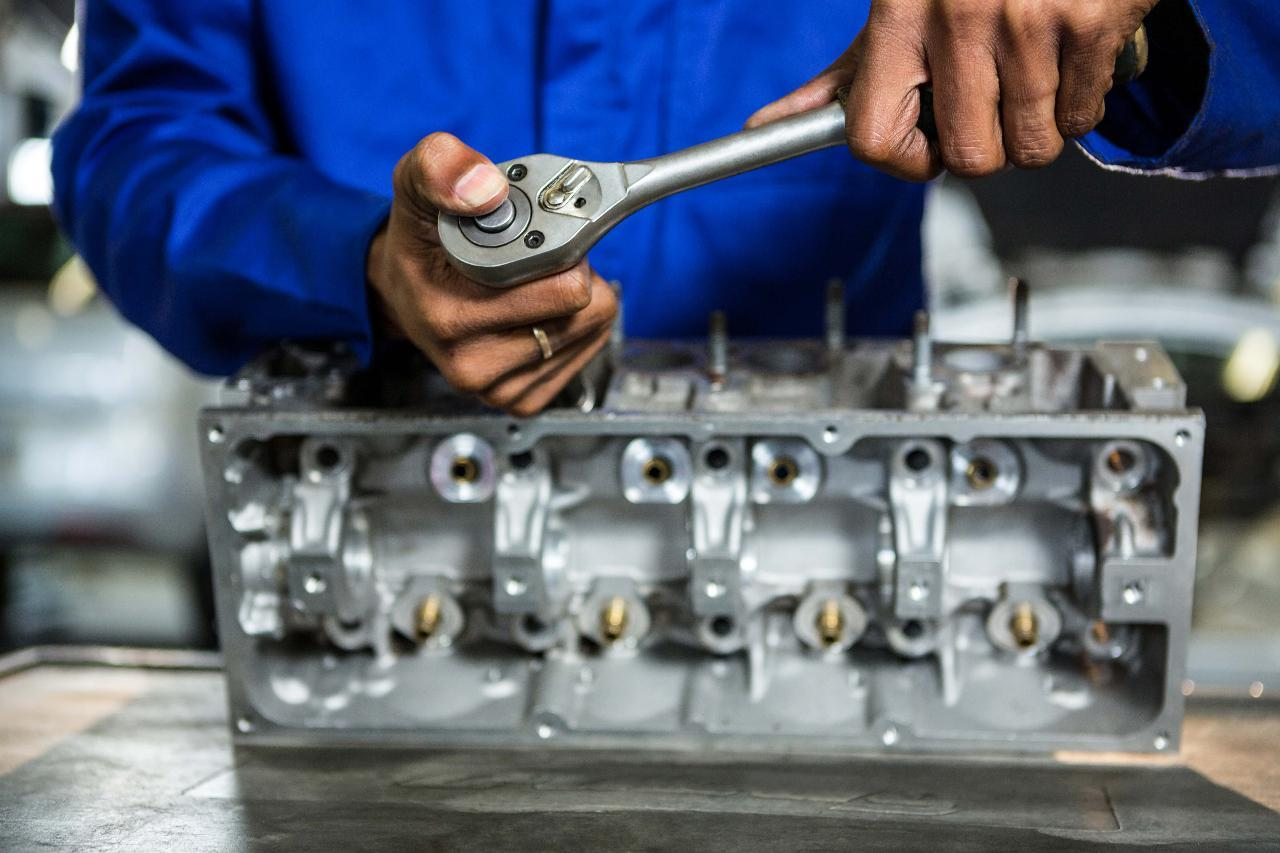Tool: (432, 155, 622, 291)
